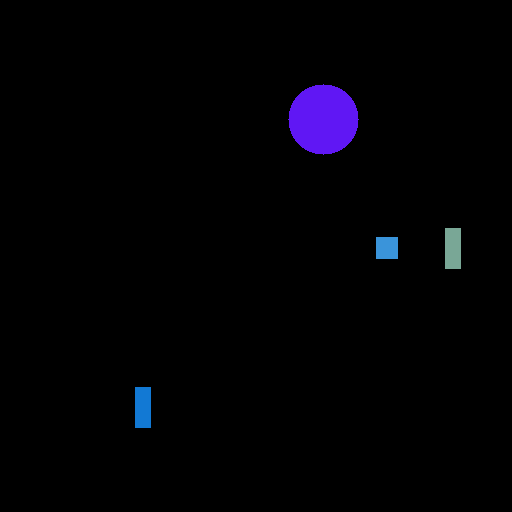circle: (286, 79, 361, 151)
square: (371, 235, 403, 262)
up_rect: (437, 219, 468, 276), (130, 383, 158, 432)
